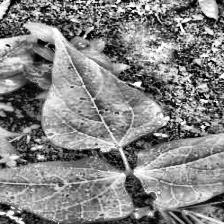ALS: (38, 59, 165, 151), (0, 161, 132, 222), (140, 120, 224, 204)
